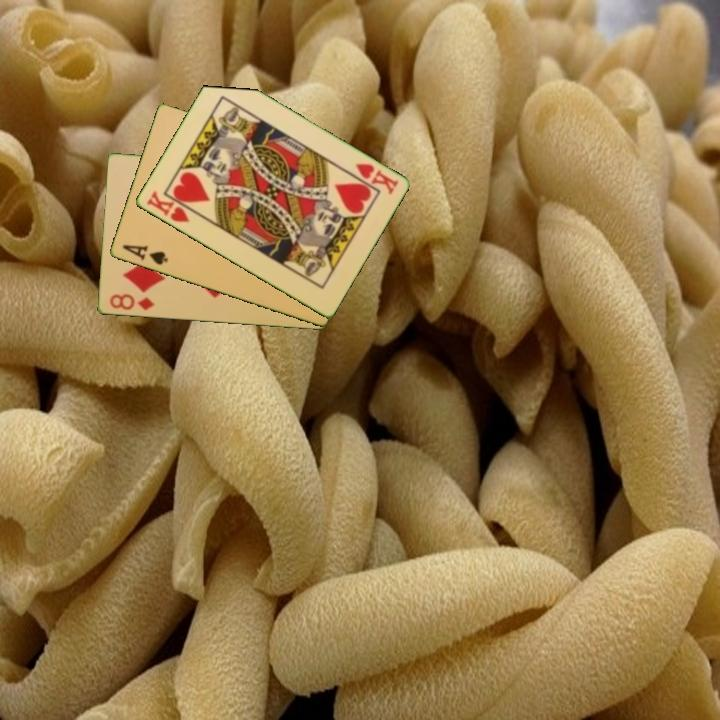8d: (106, 291, 157, 313)
As: (119, 241, 171, 268)
Kh: (143, 187, 199, 226), (352, 160, 401, 198)
